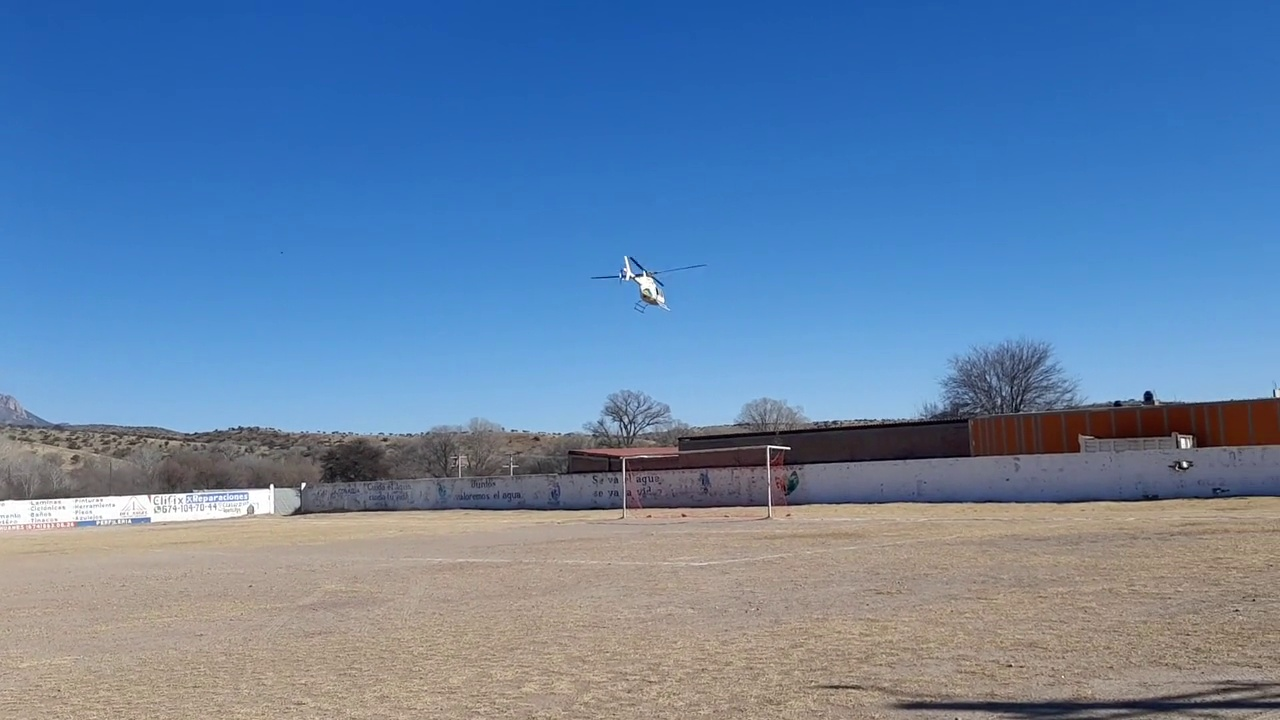heli: (591, 253, 706, 313)
